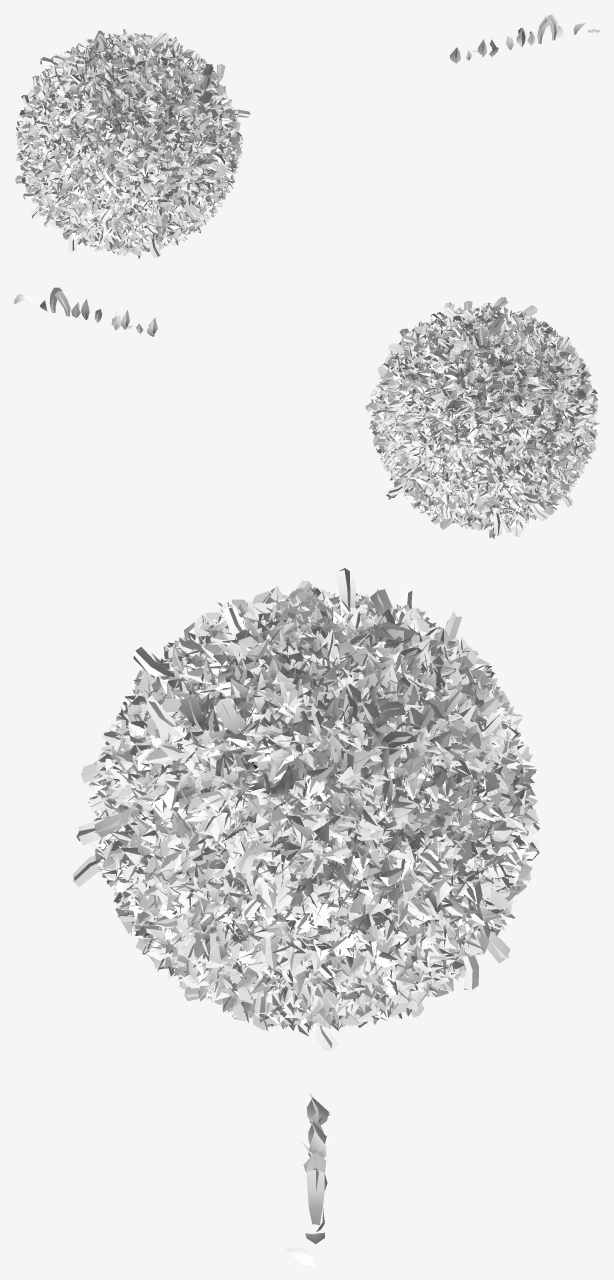
The model's file is PH_Moss_01.glb.
3 renders of one model, top to bottom at view 1: azimuth 30°, elevation 25°; view 2: azimuth 150°, elevation 25°; view 3: azimuth 270°, elevation 25°, orthographic. The views are drawn at different scales.
Visible parts, largest first — view 1: moss_01_geometry_nodes; view 2: moss_01_geometry_nodes; view 3: moss_01_geometry_nodes.
Part boxes in pixels (x1,y1,x2,y2): moss_01_geometry_nodes: (14, 29, 250, 258); moss_01_geometry_nodes: (365, 297, 599, 538); moss_01_geometry_nodes: (73, 568, 540, 1050).
Size of what is drawn, in the model's own units: 0.839 by 0.2989 by 0.3003.
2 materials, 1 textured.
